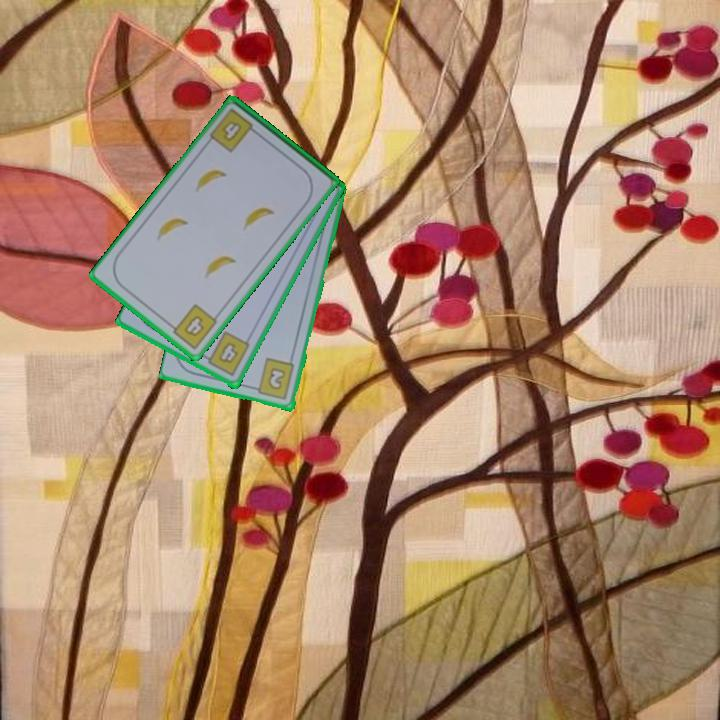2b: (249, 355, 298, 403)
4b: (206, 105, 262, 156), (165, 301, 220, 352), (199, 328, 253, 379)
